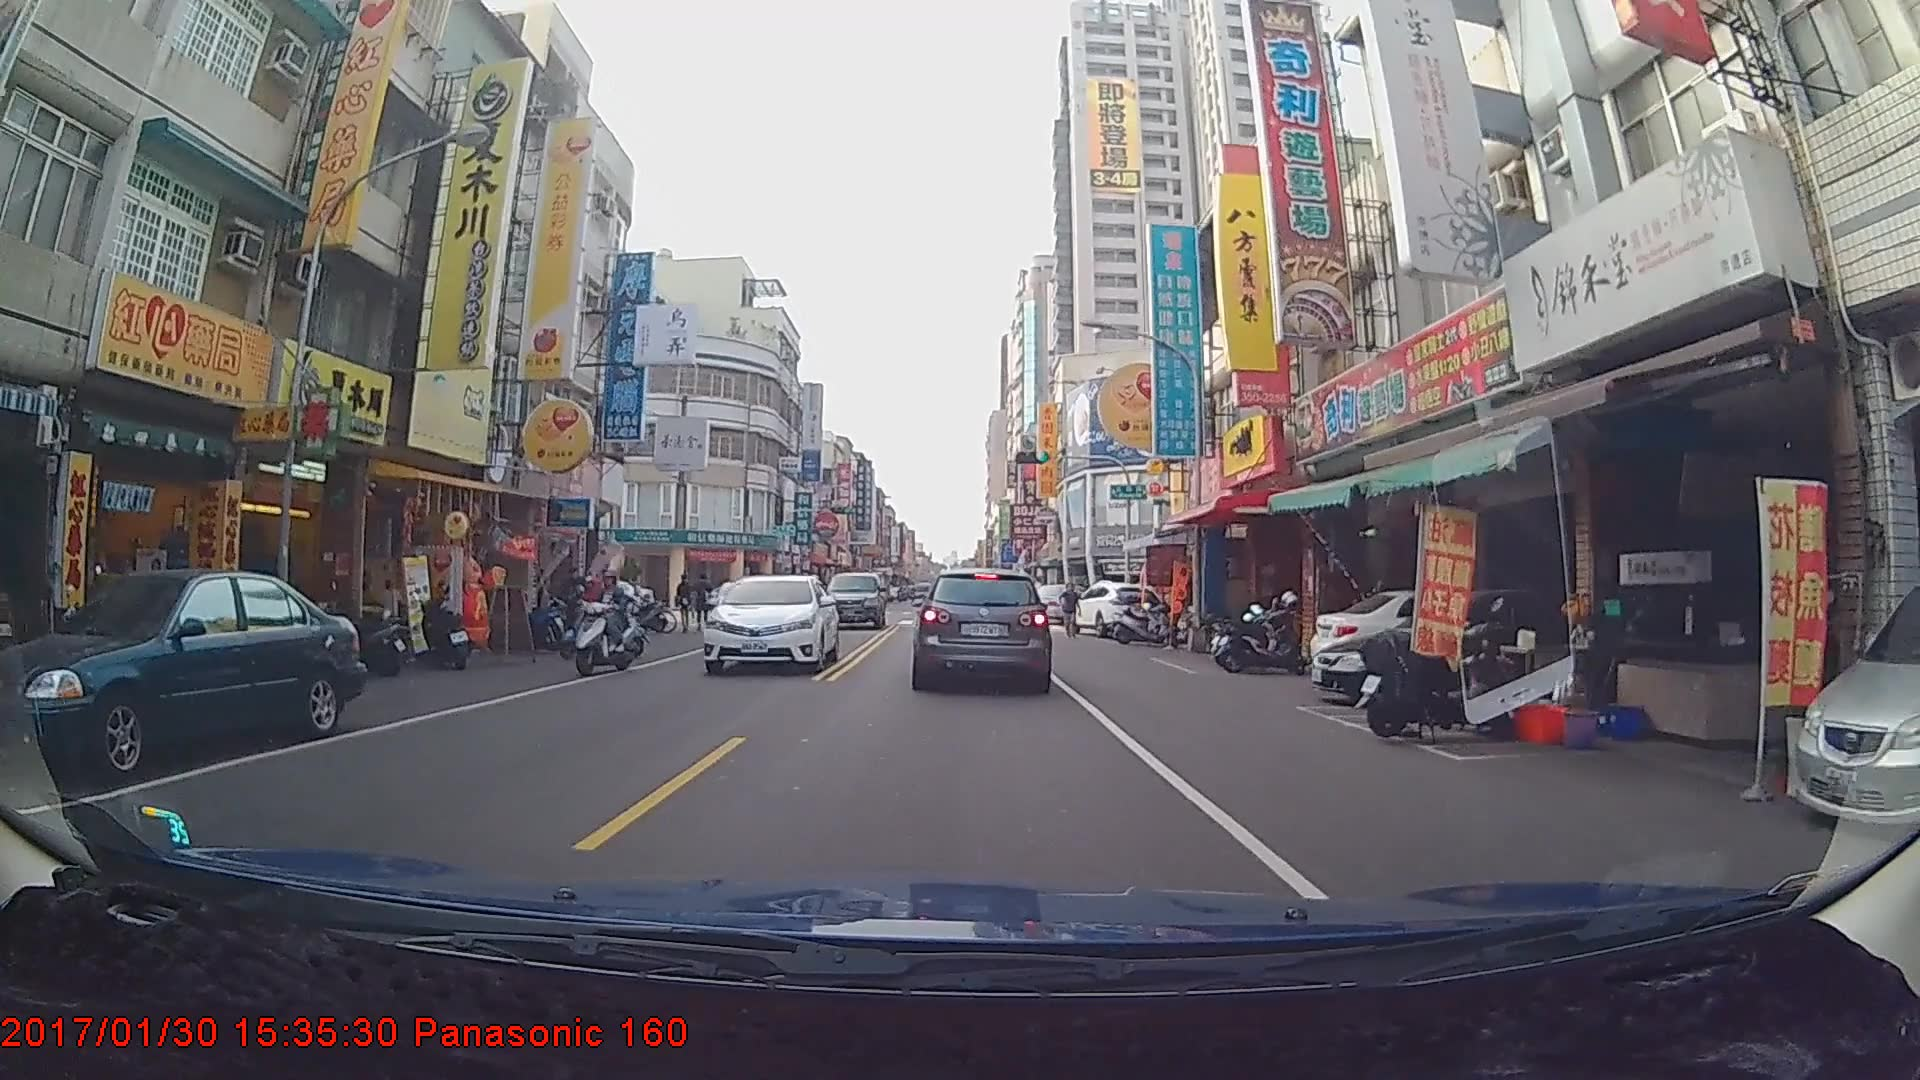pedestrian: (1061, 583, 1082, 641)
rider: (572, 564, 646, 682)
vehicle: (0, 569, 358, 773), (1776, 561, 1916, 831), (914, 565, 1051, 690), (702, 573, 841, 674), (1068, 580, 1167, 639), (820, 571, 888, 632)
